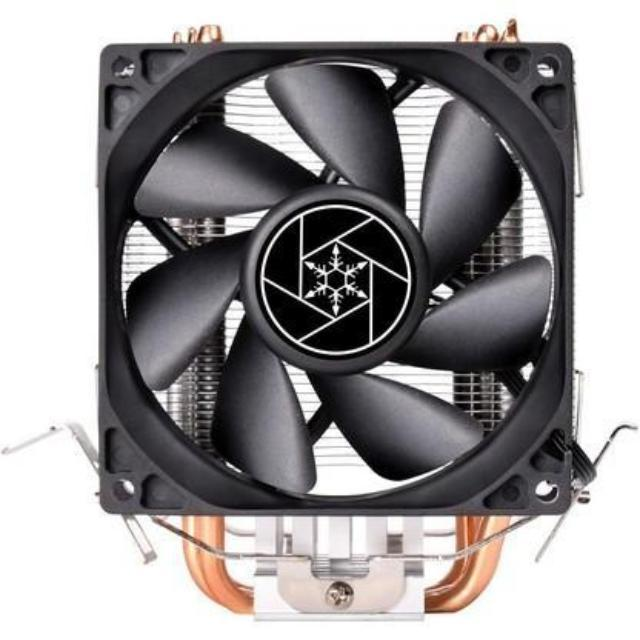CPU_Fan: (86, 19, 600, 624)
